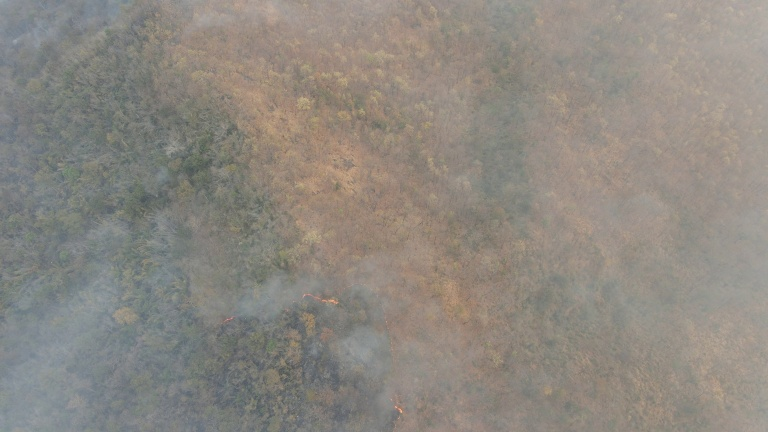fire: (358, 285, 411, 432), (290, 288, 344, 316), (211, 306, 246, 331)
smoke: (425, 2, 768, 432), (1, 216, 425, 432)
